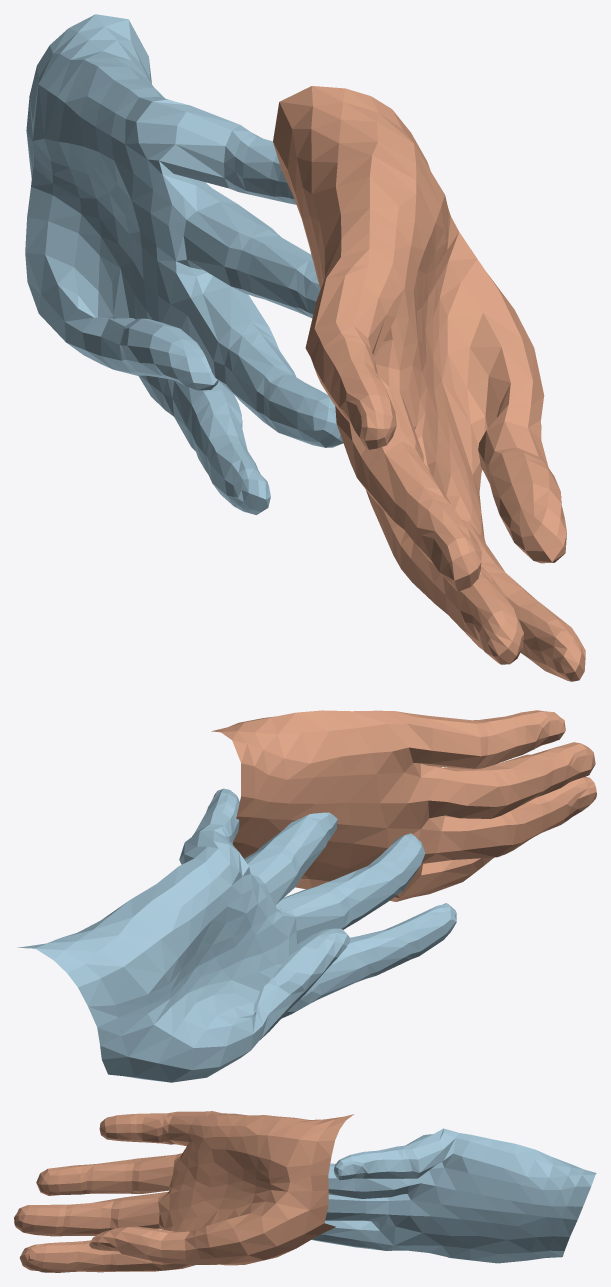
The model's file is frame_032.glb.
3 views of the same model, one above another, from view 1: azimuth 30°, elevation 25°; view 2: azimuth 150°, elevation 25°; view 3: azimuth 270°, elevation 25° (orthographic). The views are drawn at different scales.
Parts seen in each view (by area): view 1: world; view 2: world; view 3: world.
Part boxes in pixels (x1,y1,x2,y2): world: (25,14,585,681); world: (17,710,596,1082); world: (14,1111,596,1272).
Size of the model in its own units: 0.0746 by 0.0791 by 0.2414.
